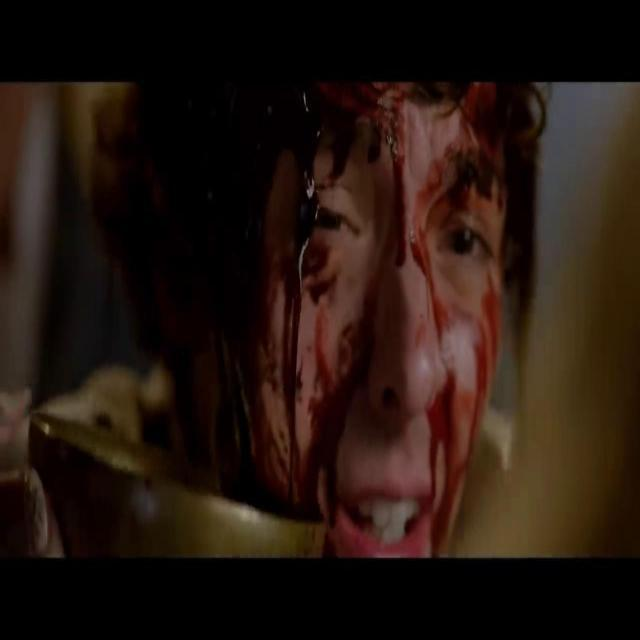flood: (280, 60, 354, 532), (427, 376, 460, 561), (439, 142, 494, 218)
